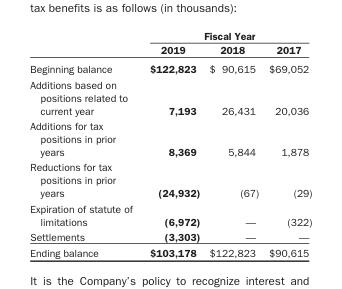table: (29, 28, 311, 258)
table column: (29, 28, 140, 258), (140, 28, 204, 258), (204, 28, 263, 258), (263, 28, 311, 258)
table column header: (29, 28, 311, 58)
table row: (29, 117, 311, 159), (29, 76, 311, 117), (29, 159, 311, 200), (29, 200, 311, 228), (29, 58, 311, 76), (29, 42, 311, 58), (29, 228, 311, 244), (29, 28, 311, 42), (29, 244, 311, 258)
table spanning cell: (140, 28, 311, 42)
